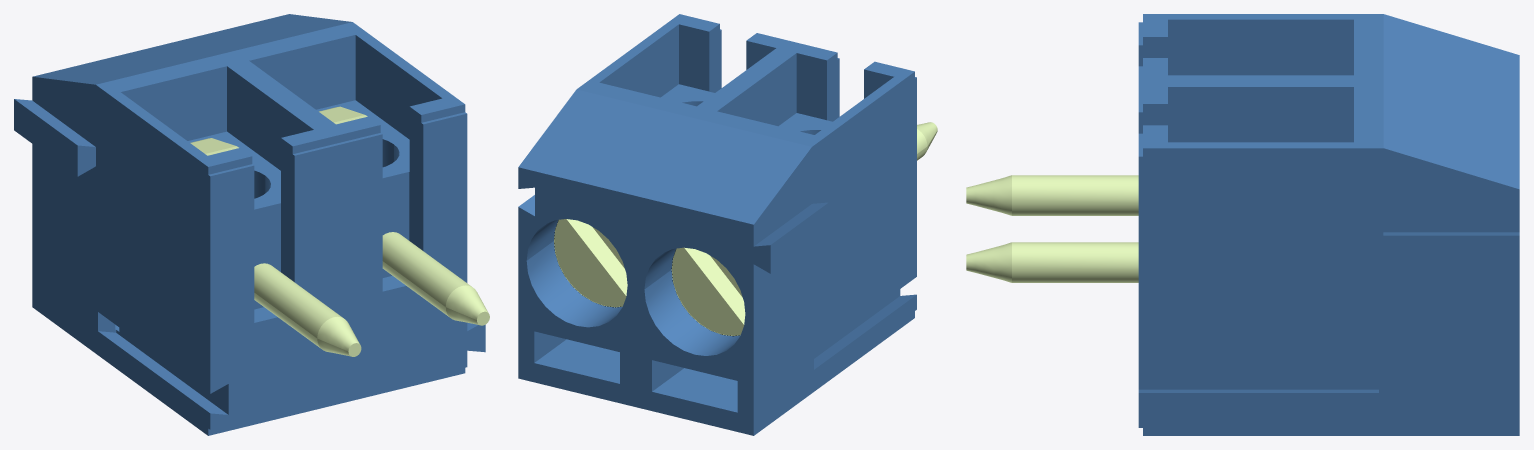
The model's file is sfe-screw_terminal_3.5mm_2p_blue.glb.
The picture shows the model from 3 angles, left to right: view 1: azimuth 30°, elevation 25°; view 2: azimuth 150°, elevation 25°; view 3: azimuth 270°, elevation 25°; orthographic projection. The views are drawn at different scales.
Visible parts, largest first — view 1: 0.08333333333333333_0.25_0.5_0, 0.8333333333333334_1_0.5_0; view 2: 0.08333333333333333_0.25_0.5_0, 0.8333333333333334_1_0.5_0; view 3: 0.08333333333333333_0.25_0.5_0, 0.8333333333333334_1_0.5_0.
Boxes of the visible parts, box(x1,y1,x2,y2) form: 0.08333333333333333_0.25_0.5_0: box(14, 14, 485, 435); 0.8333333333333334_1_0.5_0: box(190, 106, 489, 356); 0.08333333333333333_0.25_0.5_0: box(518, 14, 916, 435); 0.8333333333333334_1_0.5_0: box(554, 122, 937, 335); 0.08333333333333333_0.25_0.5_0: box(1138, 14, 1519, 435); 0.8333333333333334_1_0.5_0: box(966, 175, 1138, 282).
Bounding box in the file's own units: 0.7994 × 0.7 × 1.22.
